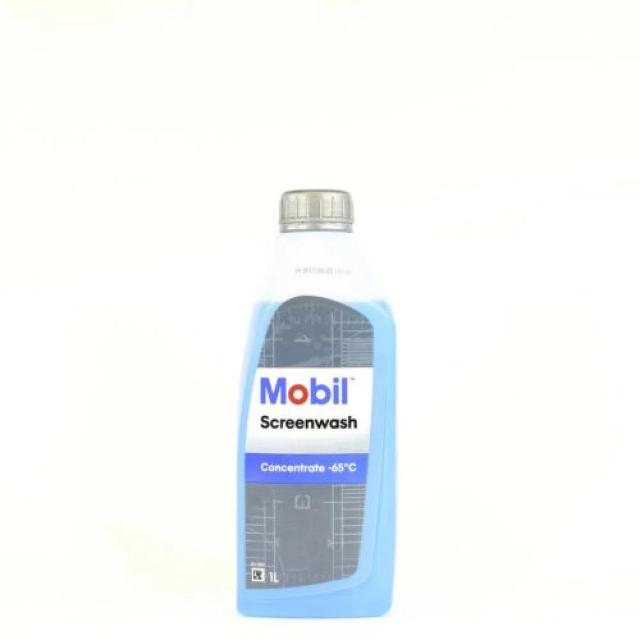winwinshield_washer: (229, 181, 408, 624)
